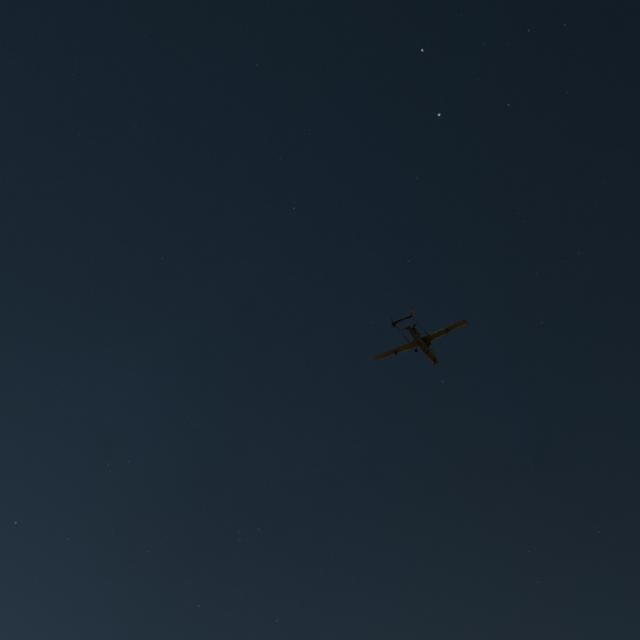Airaplan: (373, 307, 468, 365)
